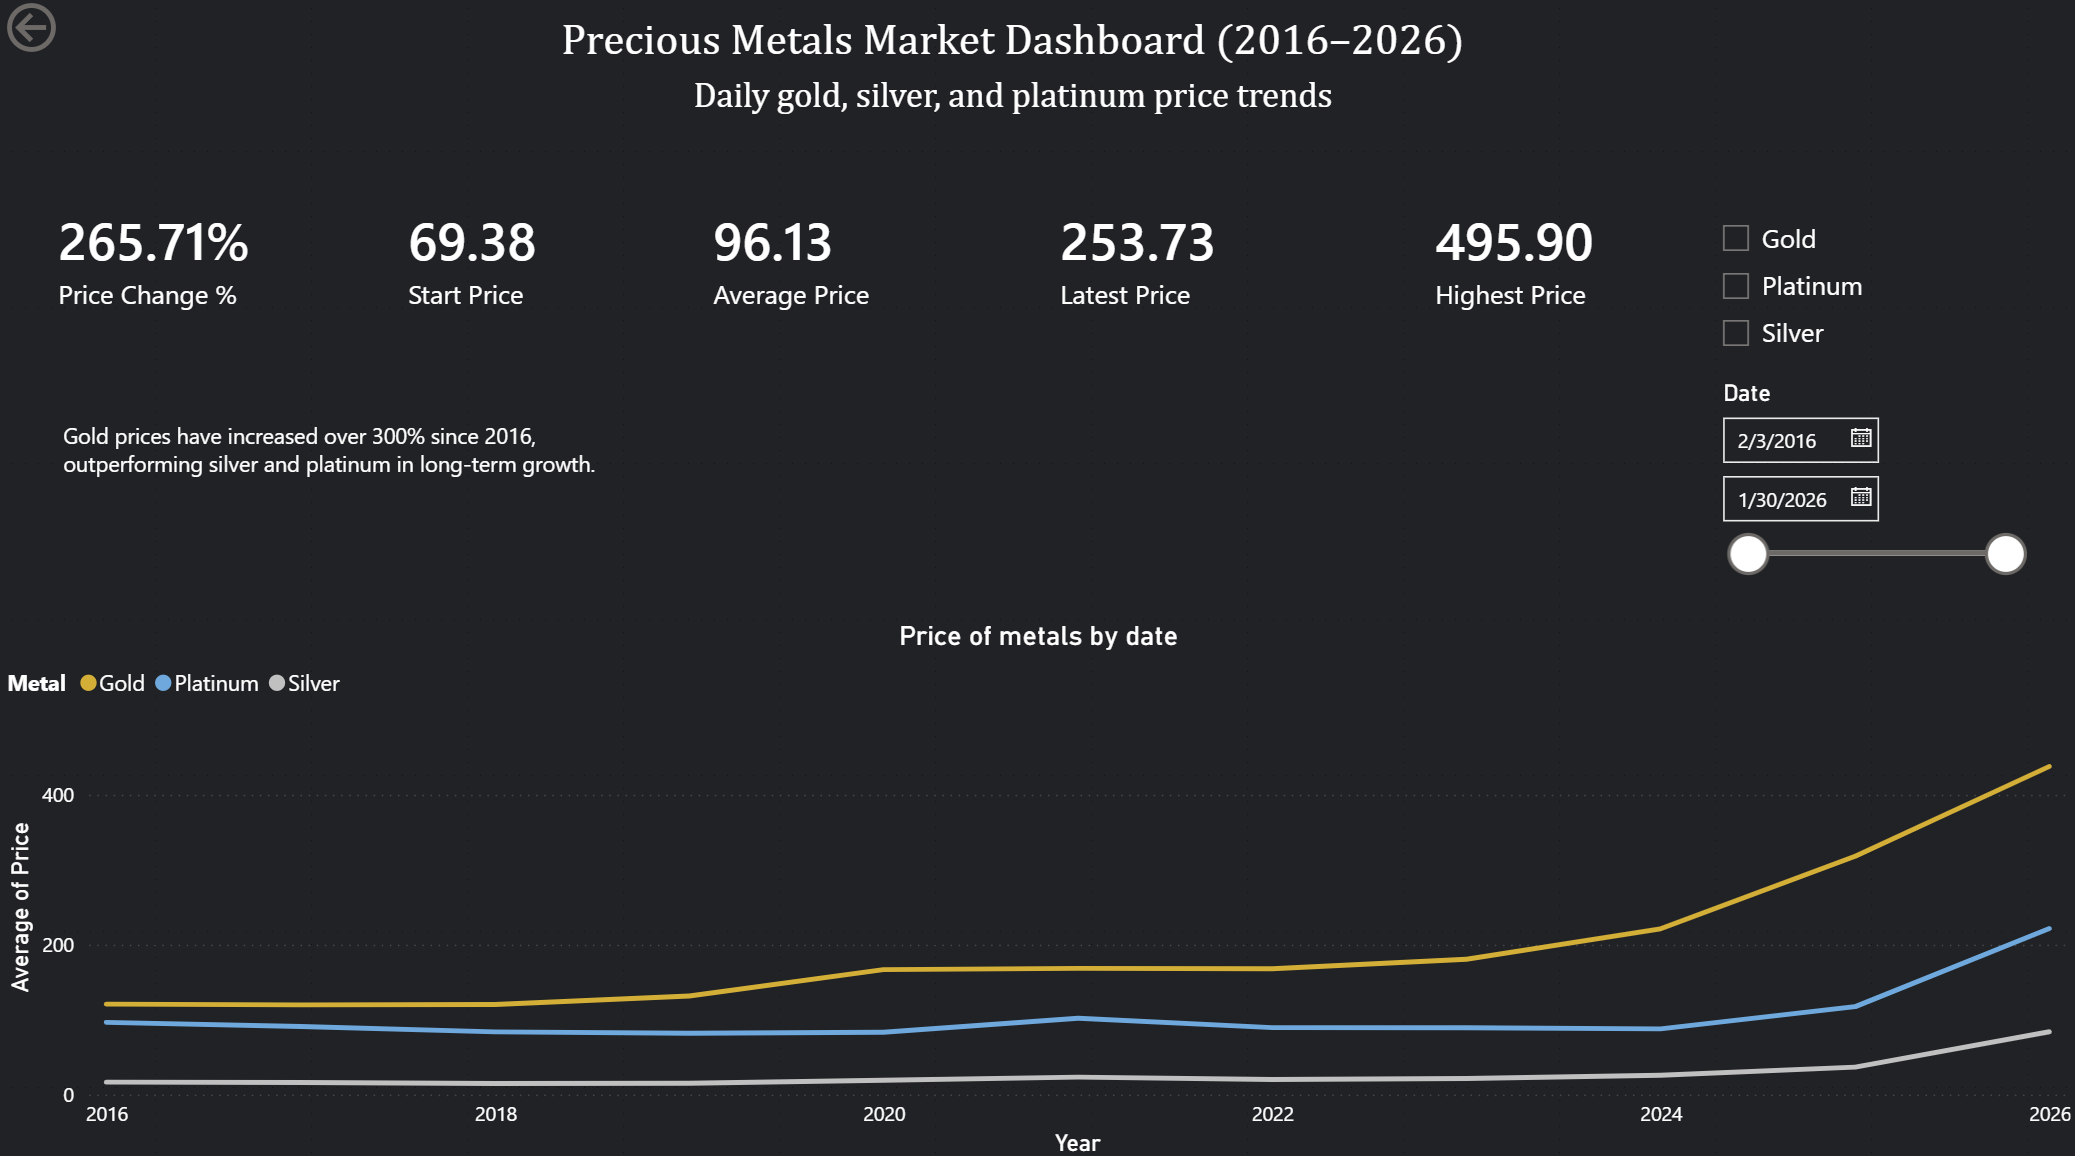

What the dashboard file says about the page in this screenshot:
{"tool":"powerbi","page":{"name":"Page 1","canvas":[1280,720],"ordinal":0},"visuals":[{"type":"lineChart","title":"Price of metals by date","fields":{"Category":["vw_metal_prices.Date.Variation.Date Hierarchy.Year","vw_metal_prices.Date.Variation.Date Hierarchy.Quarter","vw_metal_prices.Date.Variation.Date Hierarchy.Month","vw_metal_prices.Date.Variation.Date Hierarchy.Day"],"Y":["Avg(vw_metal_prices.Price)"],"Series":["vw_metal_prices.Metal"]},"box":[0,384,1279.8,336],"z":0},{"type":"slicer","fields":{"Values":["vw_metal_prices.Metal"]},"box":[1048,129.8,208,96],"z":1000},{"type":"cardVisual","fields":{"Data":["vw_metal_prices.Latest Price"]},"box":[624,96,185.2,129.8],"z":2000},{"type":"actionButton","box":[0,0,100,40],"z":3000},{"type":"cardVisual","fields":{"Data":["vw_metal_prices.Highest Price"]},"box":[854.8,96,185.2,129.8],"z":4000},{"type":"cardVisual","fields":{"Data":["Avg(vw_metal_prices.Price)"]},"box":[410.5,96,185.2,129.8],"z":5000},{"type":"cardVisual","fields":{"Data":["vw_metal_prices.Start Price"]},"box":[222.8,96,185.2,129.8],"z":6000},{"type":"slicer","fields":{"Values":["vw_metal_prices.Date"]},"box":[1048,232,208,152],"z":7000},{"type":"cardVisual","fields":{"Data":["vw_metal_prices.Price Change %"]},"box":[7.4,96,185.2,129.8],"z":8000},{"type":"textbox","box":[96,8,1056,88],"z":9000},{"type":"textbox","box":[34.5,257.2,376,64],"z":10000}]}

Visuals, with their boxes in screenshot pixels (x1, y1, x2, y2), scaled from the page's 1280x720 canvas onto the 2075x1156 screenshot:
"Price of metals by date" lineChart: detection(0, 617, 2074, 1155)
slicer - vw_metal_prices.Metal: detection(1699, 208, 2036, 363)
cardVisual - vw_metal_prices.Latest Price: detection(1012, 154, 1312, 363)
actionButton: detection(0, 0, 162, 64)
cardVisual - vw_metal_prices.Highest Price: detection(1386, 154, 1686, 363)
cardVisual - Avg(vw_metal_prices.Price): detection(665, 154, 966, 363)
cardVisual - vw_metal_prices.Start Price: detection(361, 154, 661, 363)
slicer - vw_metal_prices.Date: detection(1699, 372, 2036, 617)
cardVisual - vw_metal_prices.Price Change %: detection(12, 154, 312, 363)
textbox: detection(156, 13, 1868, 154)
textbox: detection(56, 413, 665, 516)
